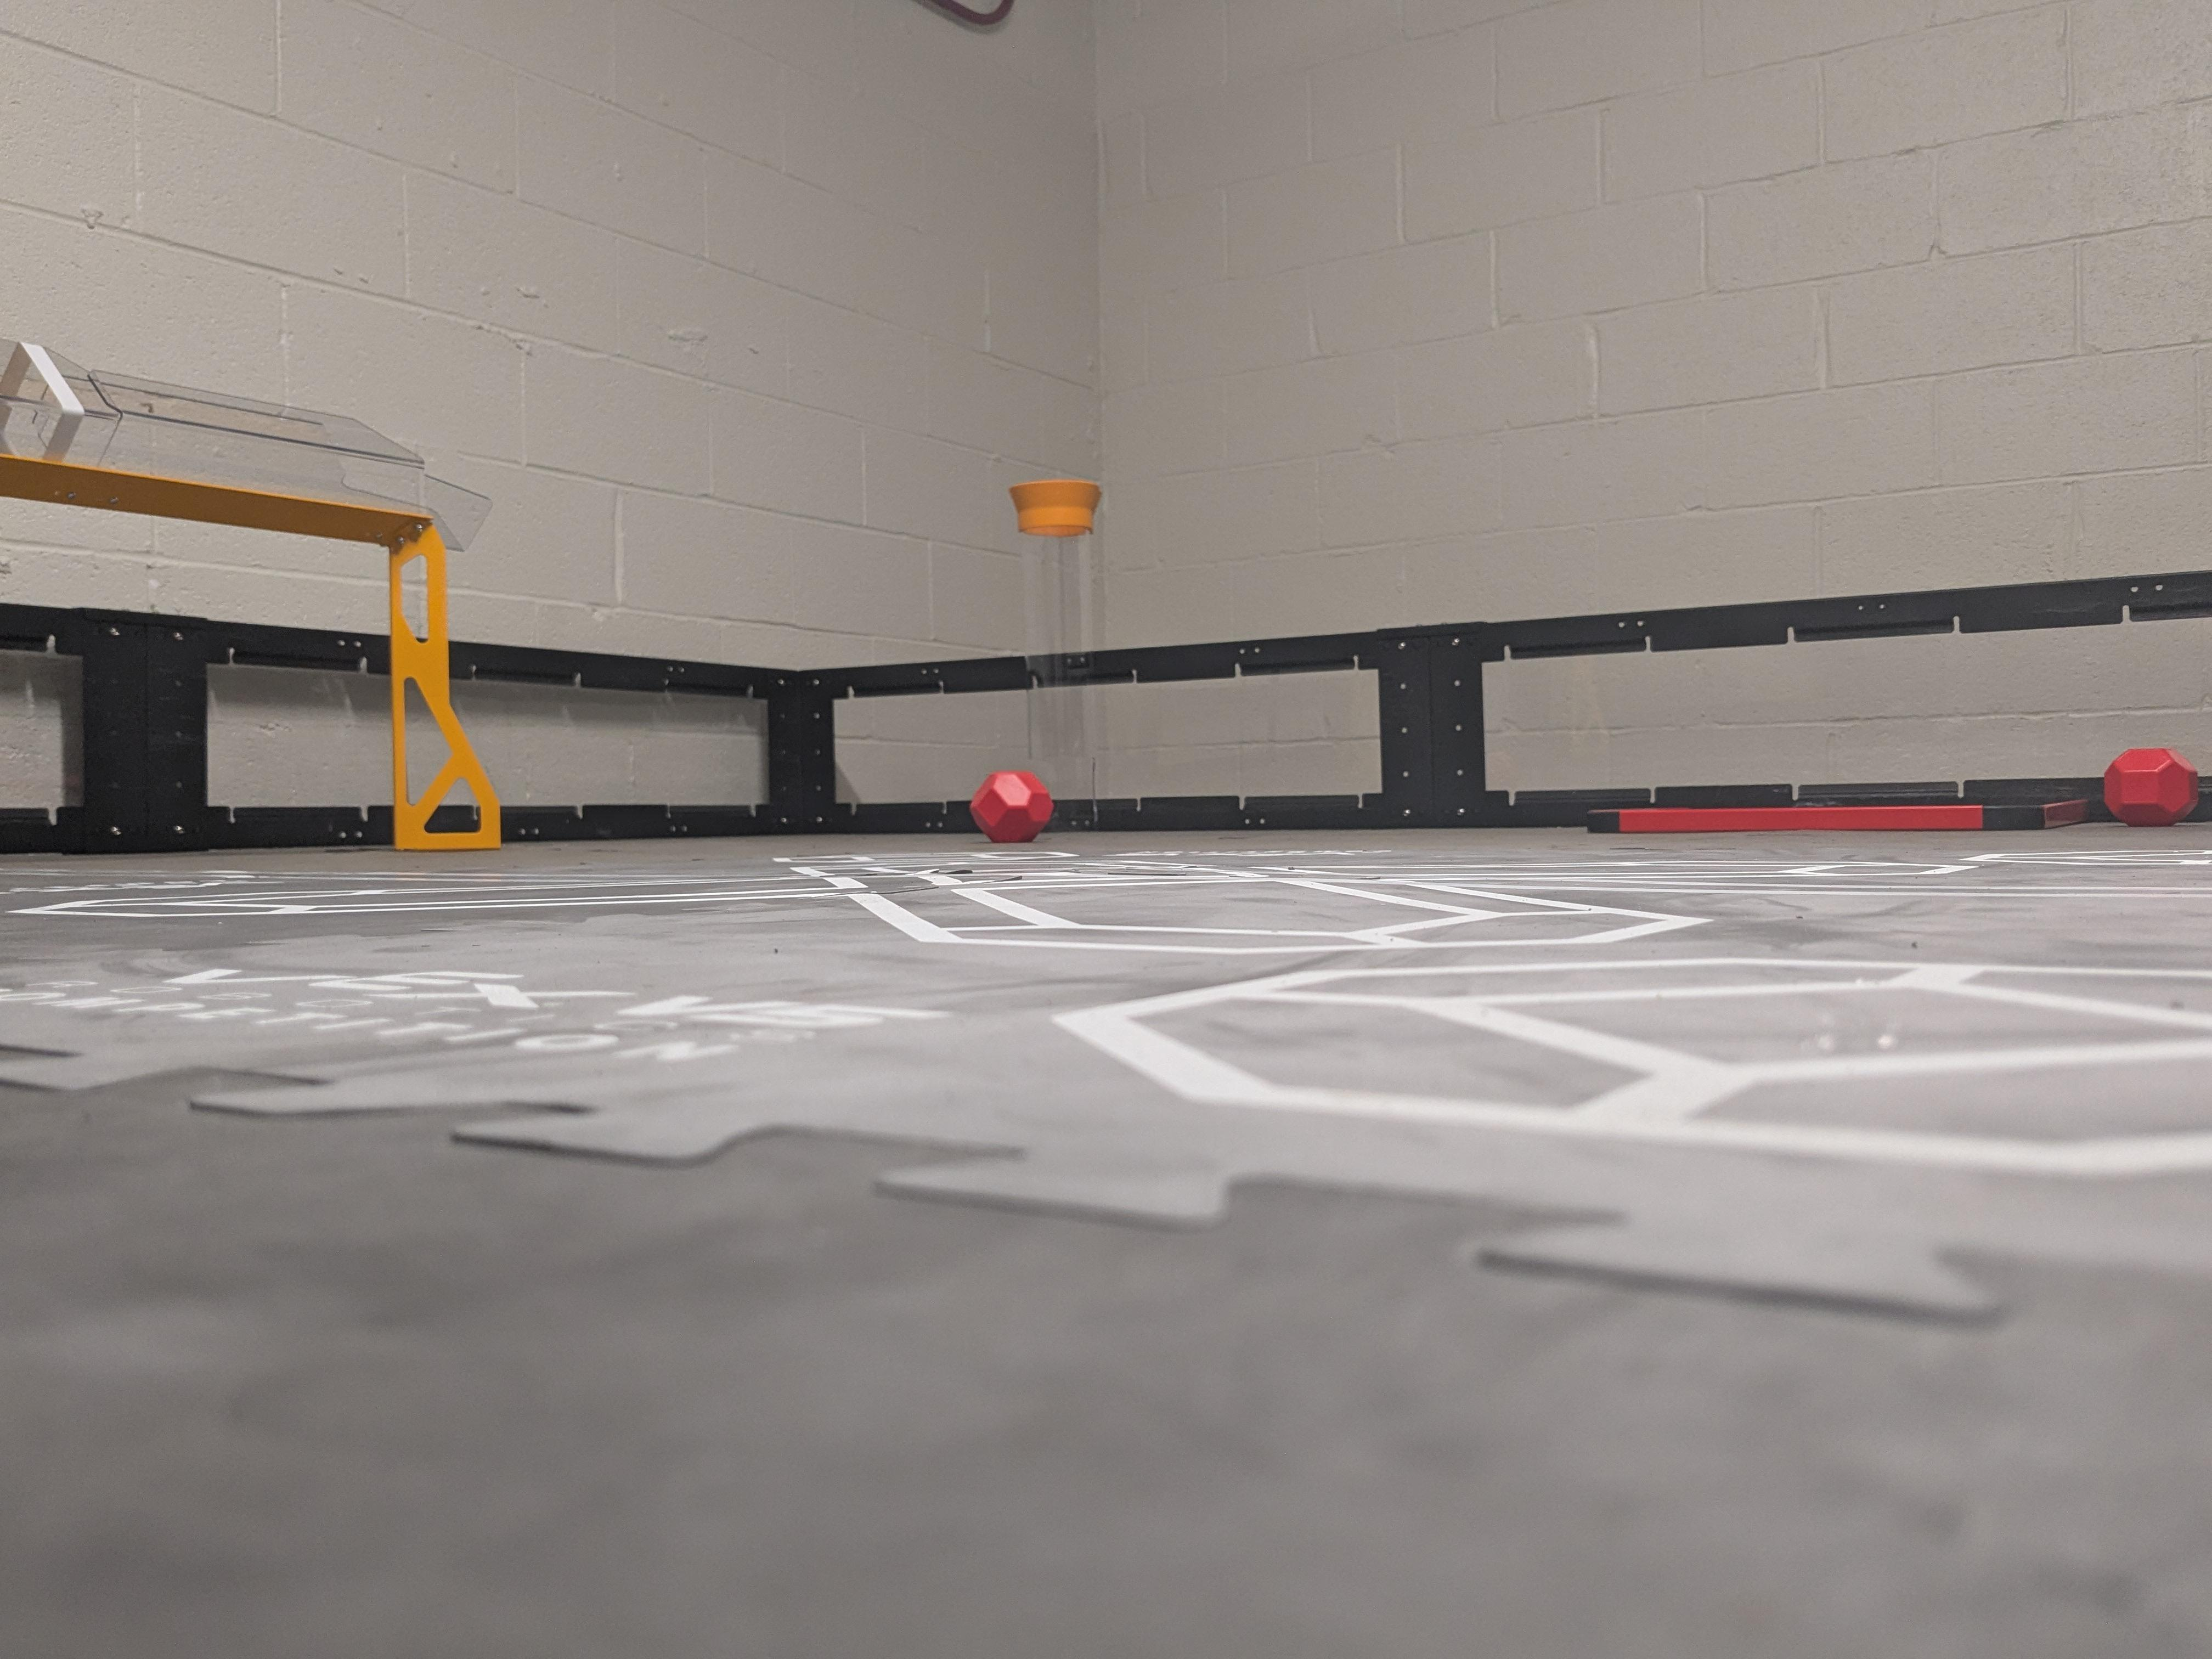Vex-Pieces-RED: (2102, 748, 2198, 826), (970, 770, 1054, 842)
